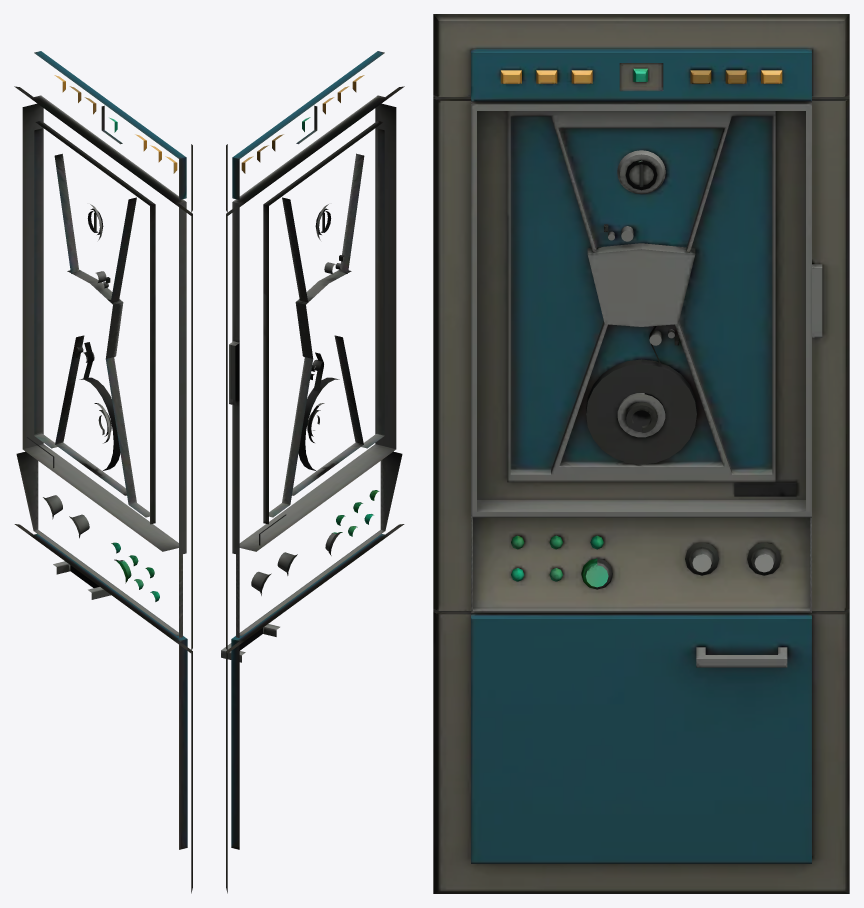
3 renders of one model, left to right at view 1: azimuth 30°, elevation 25°; view 2: azimuth 150°, elevation 25°; view 3: azimuth 270°, elevation 25°, orthographic. The views are drawn at different scales.
Visible parts, largest first — view 1: body0_model0_lod0_mesh0; view 2: body0_model0_lod0_mesh0; view 3: body0_model0_lod0_mesh0.
Part boxes in pixels (x1=…): body0_model0_lod0_mesh0: x1=14, y1=51, x2=192, y2=893; body0_model0_lod0_mesh0: x1=221, y1=51, x2=404, y2=893; body0_model0_lod0_mesh0: x1=433, y1=14, x2=849, y2=893.
Bounding box in the file's own units: 7.41 × 112 × 47.99.
1 material, 1 textured.
